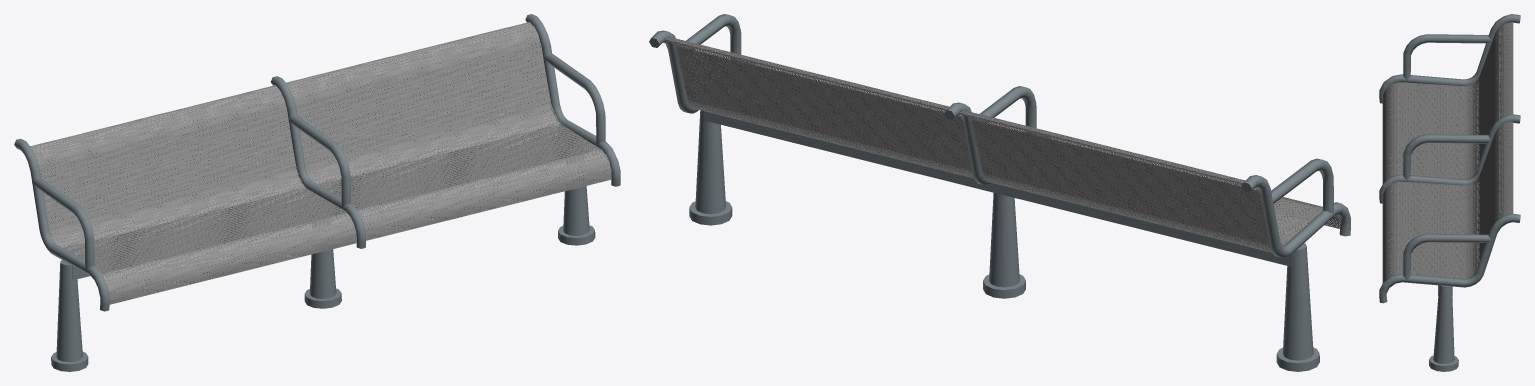
The model's file is BenchSeat.fbx.
3 renders of one model, left to right at view 1: azimuth 30°, elevation 25°; view 2: azimuth 150°, elevation 25°; view 3: azimuth 270°, elevation 25°, orthographic. The views are drawn at different scales.
Visible parts, largest first — view 1: BenchSeat; view 2: BenchSeat; view 3: BenchSeat.
Part boxes in pixels (<box>): BenchSeat: <box>14,14,620,371</box>; BenchSeat: <box>649,14,1350,371</box>; BenchSeat: <box>1379,14,1520,371</box>.
Size of the model in its own units: 2.34 by 0.799 by 0.6649.
